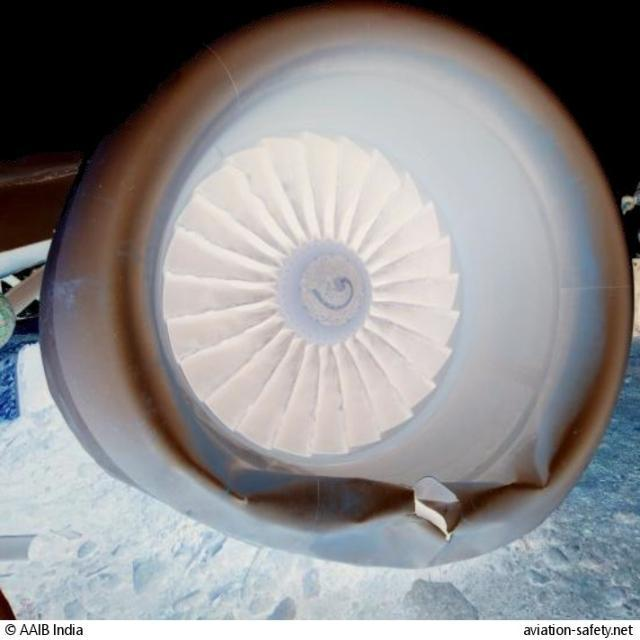dent: (235, 473, 412, 536), (507, 438, 553, 496)
